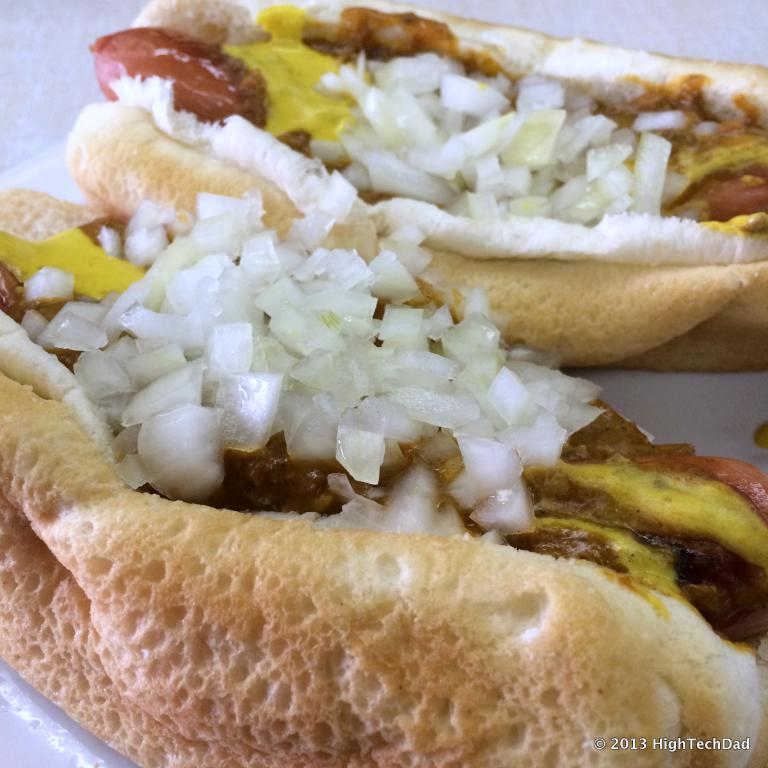hot_dog: (0, 192, 767, 767), (55, 0, 767, 378)
